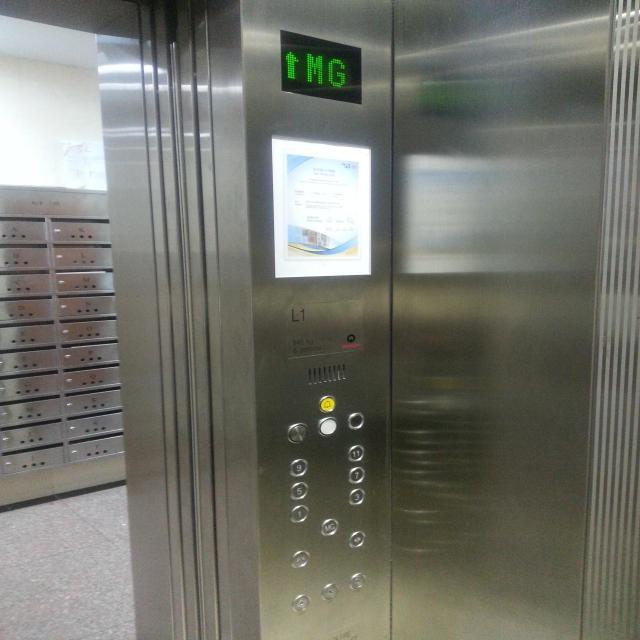1: (290, 504, 308, 524)
11: (348, 446, 364, 462)
3: (348, 488, 364, 505)
5: (290, 482, 308, 500)
7: (347, 467, 364, 482)
9: (289, 458, 307, 477)
MG: (322, 518, 338, 535)
alarm: (318, 396, 336, 414)
blur: (347, 412, 364, 428)
close: (291, 550, 309, 568)
empty: (317, 417, 338, 437)
keyhole: (292, 594, 309, 612), (349, 573, 365, 591), (322, 583, 338, 601)
led: (279, 29, 363, 104)
open: (349, 531, 365, 547)
speaker: (286, 423, 307, 443)
